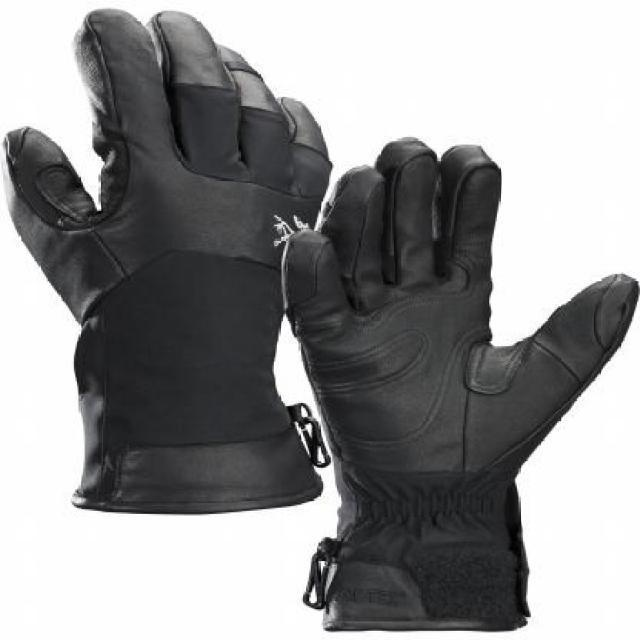Guantes: (277, 135, 639, 632), (1, 6, 334, 514)
